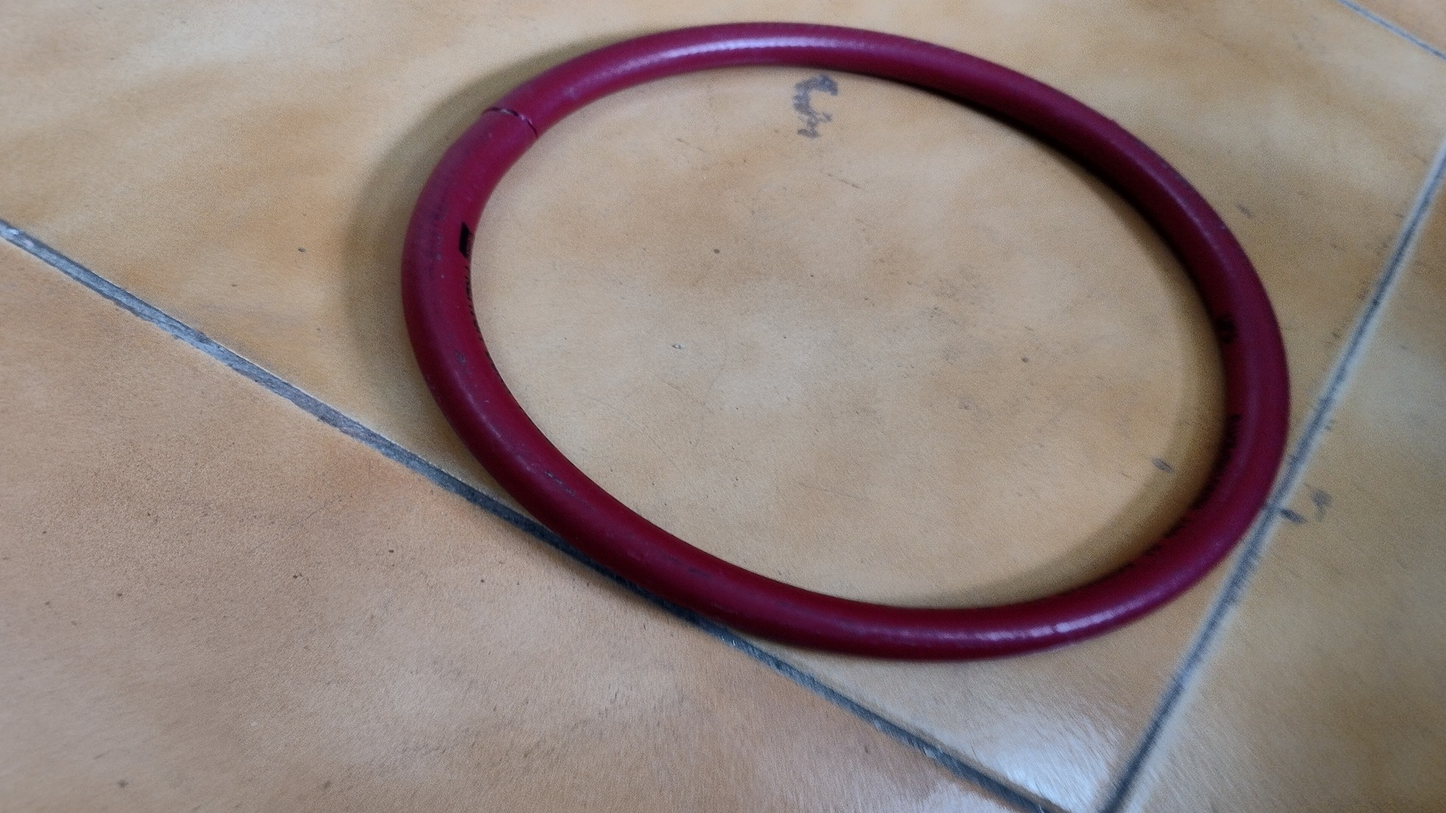Red ring: (409, 23, 1291, 653)
